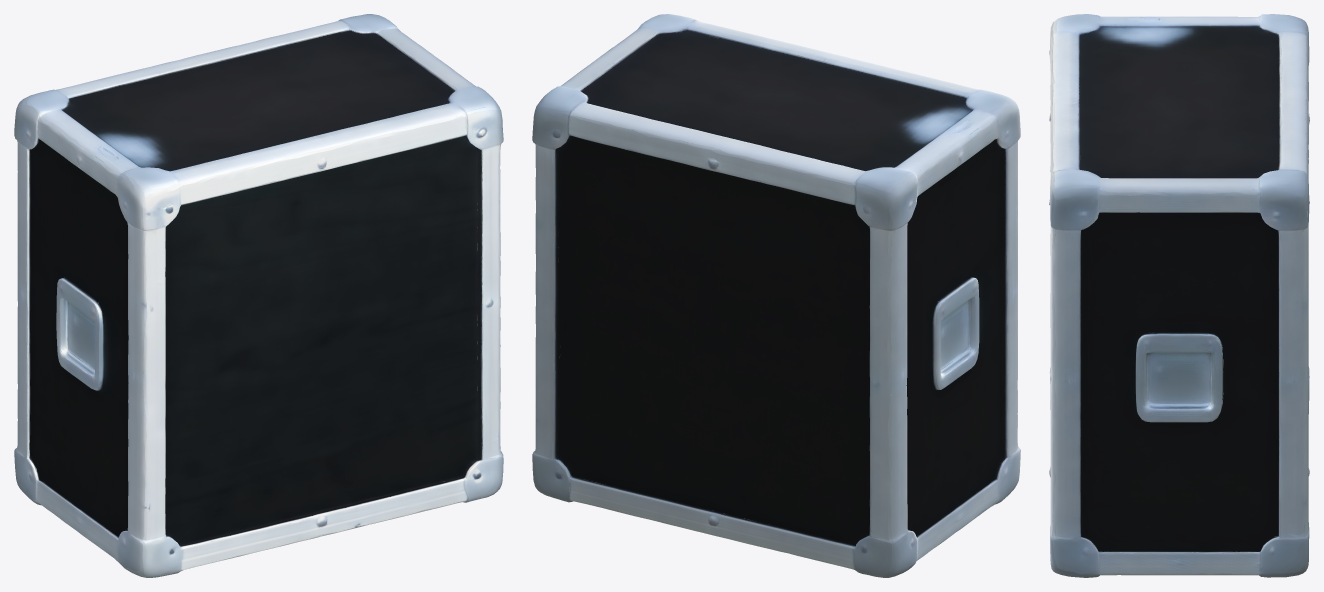
Rendered from flight-case.glb.
3 renders of one model, left to right at view 1: azimuth 30°, elevation 25°; view 2: azimuth 150°, elevation 25°; view 3: azimuth 270°, elevation 25°, orthographic.
Parts seen in each view (by area): view 1: Mesh; view 2: Mesh; view 3: Mesh.
Part boxes in pixels (x1,y1,x2,y2): Mesh: [14, 14, 503, 577]; Mesh: [532, 14, 1020, 577]; Mesh: [1049, 14, 1309, 577].
Bounding box in the file's own units: 1.82 × 1.88 × 1.13.
Materials: 1 (1 with a texture image).
